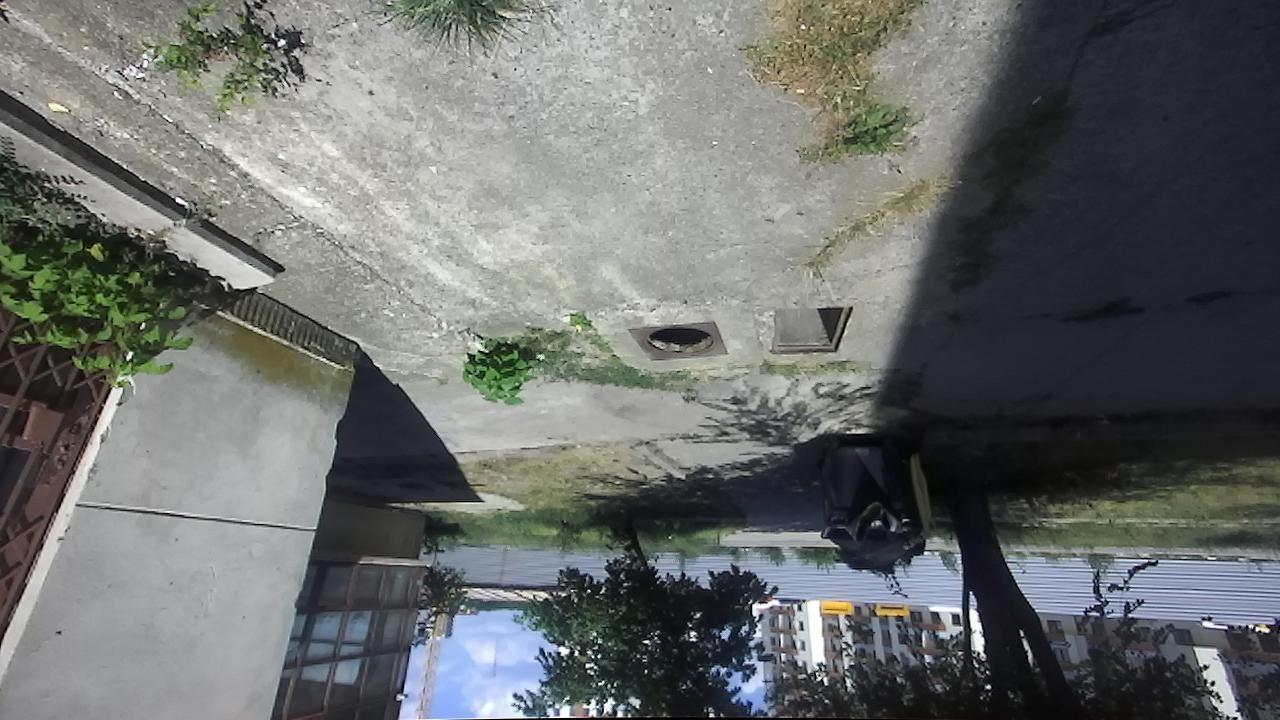drain: (769, 305, 855, 357), (643, 322, 719, 359)
